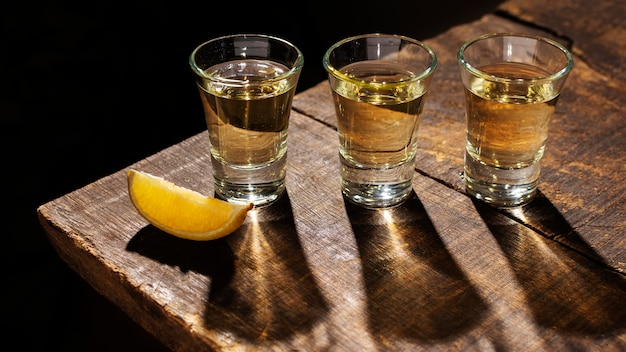alcohol: (185, 30, 306, 209), (456, 31, 575, 209), (325, 30, 438, 213)
